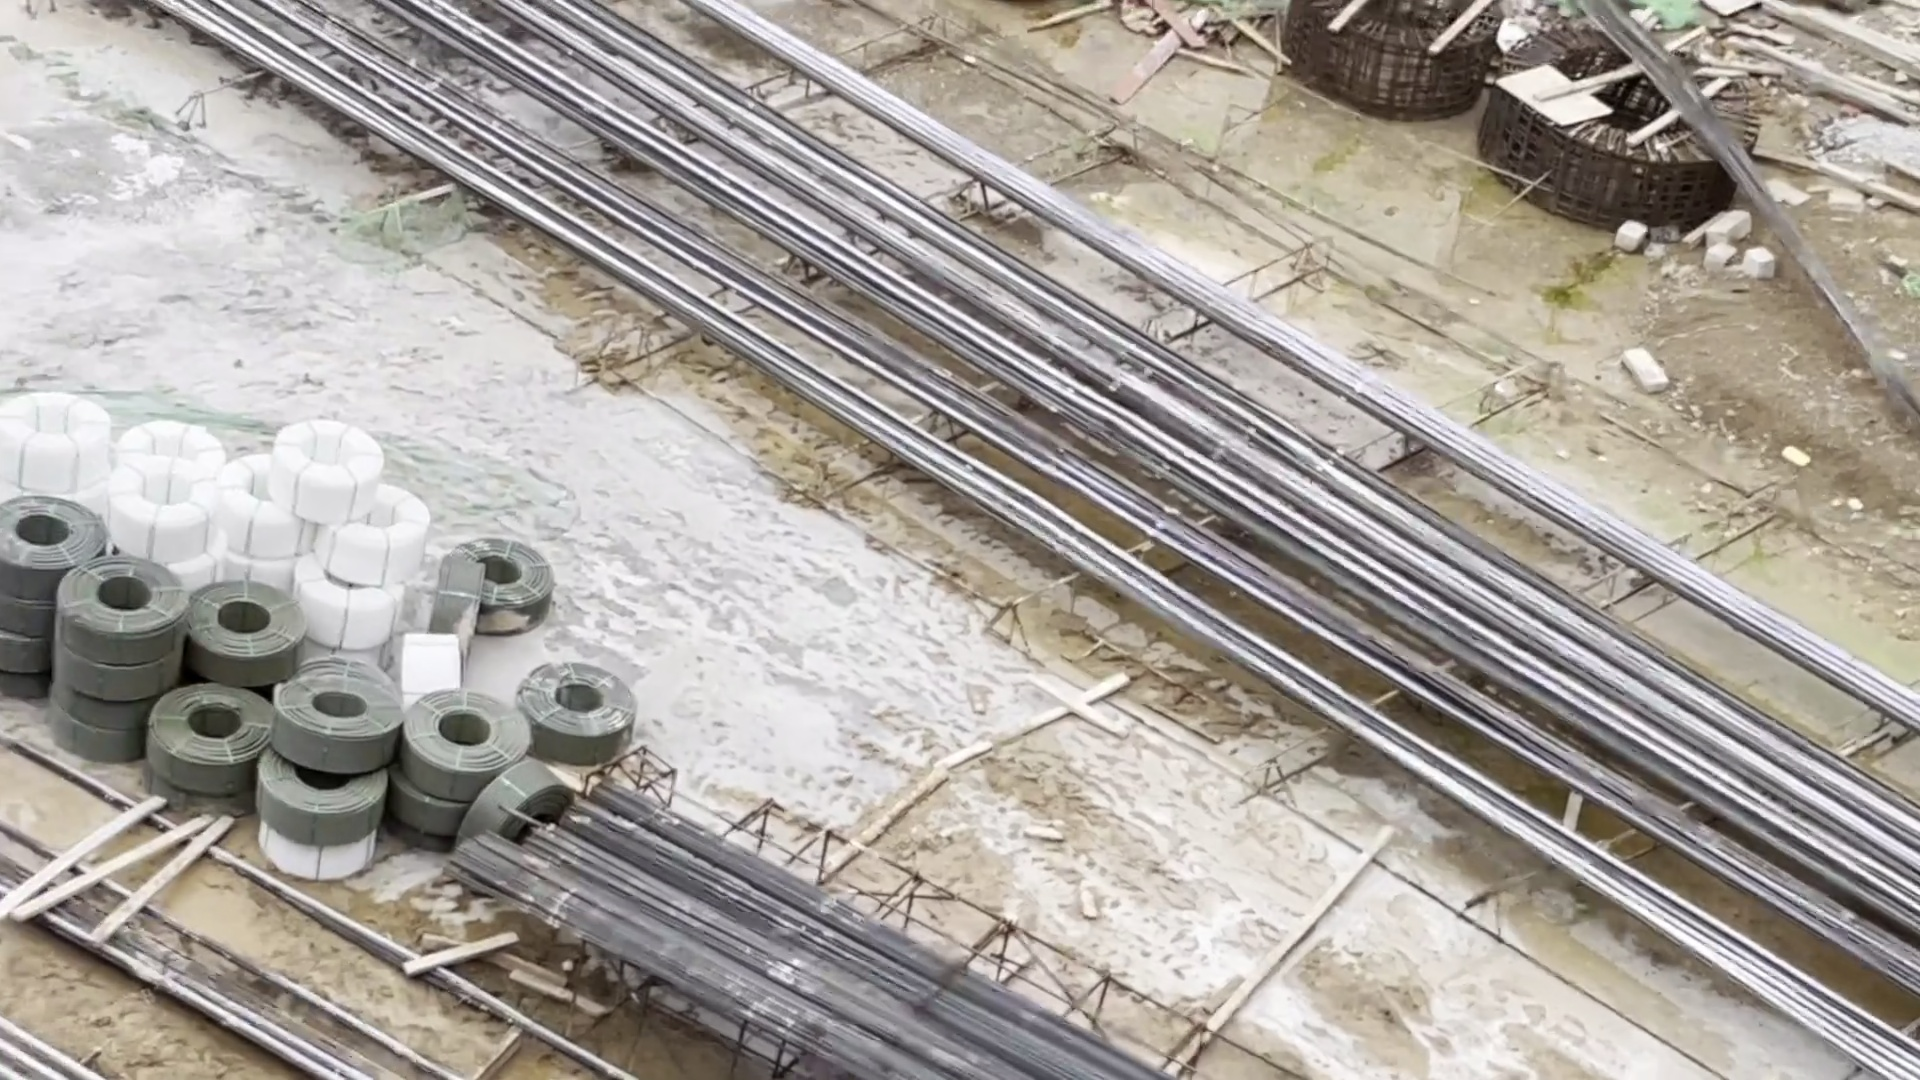rebar: (1154, 373, 1920, 936), (455, 1, 1124, 492), (475, 793, 1135, 1080)
